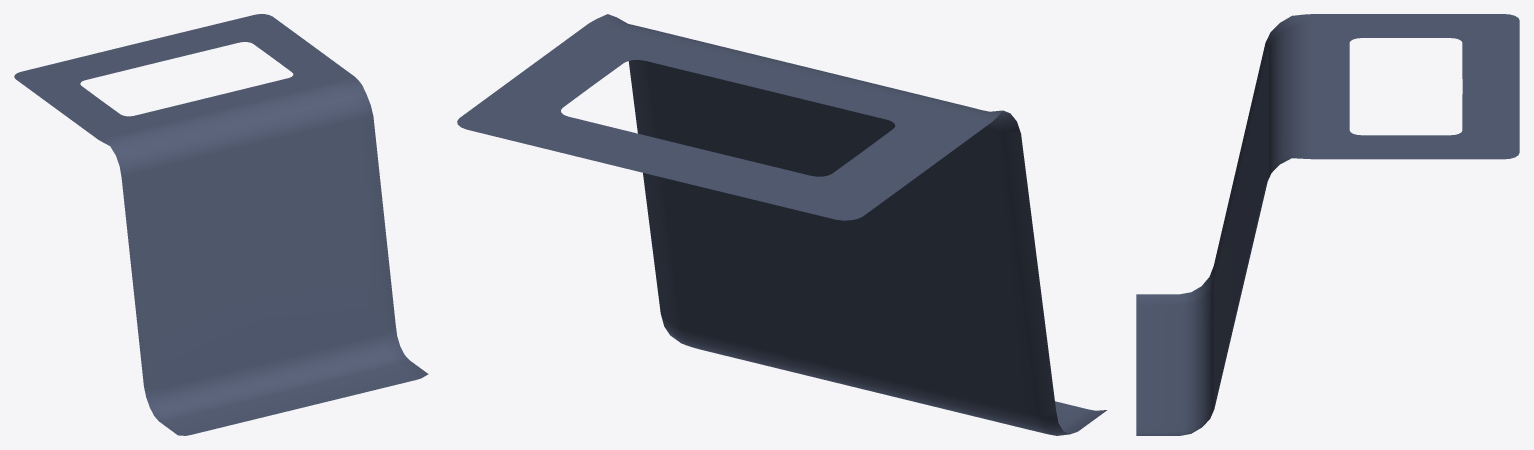
File: Water_Mesh.fbx
3 renders of one model, left to right at view 1: azimuth 30°, elevation 25°; view 2: azimuth 150°, elevation 25°; view 3: azimuth 270°, elevation 25°, orthographic. The views are drawn at different scales.
Parts seen in each view (by area): view 1: MDL_Slider_Water; view 2: MDL_Slider_Water; view 3: MDL_Slider_Water.
Boxes of the visible parts, x1,y1,x2,y2 form: MDL_Slider_Water: (14,14,428,435); MDL_Slider_Water: (457,14,1106,435); MDL_Slider_Water: (1136,14,1519,435).
Bounding box in the file's own units: 622 × 562 × 695.
